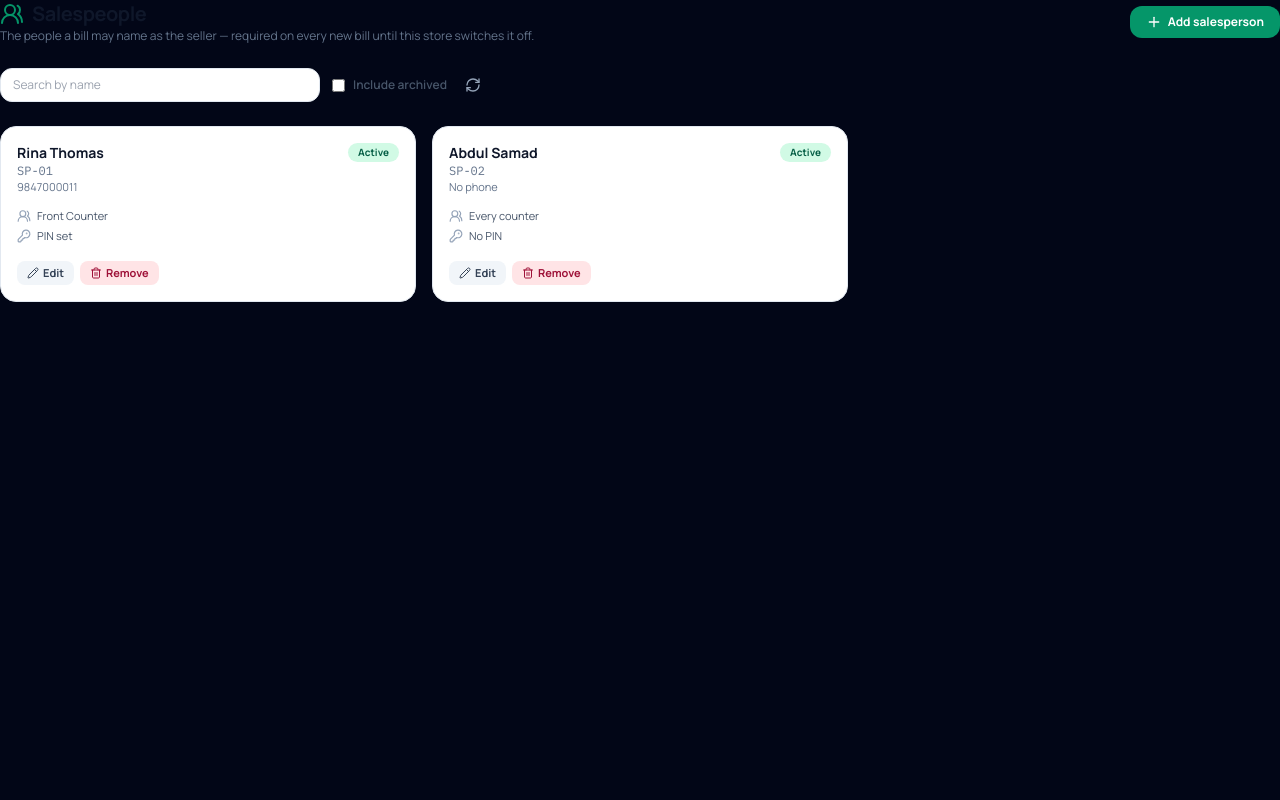
Test: salespeople master › restricts a person to the counters ticked in the dialog
The width and height of the screenshot is (1280, 800).
Check: the text "Rina Thomas" is shown, box x1=17 y1=143 x2=104 y2=163
Click the button "Add salesperson".
click(1205, 22)  # box x1=1130 y1=6 x2=1279 y2=38
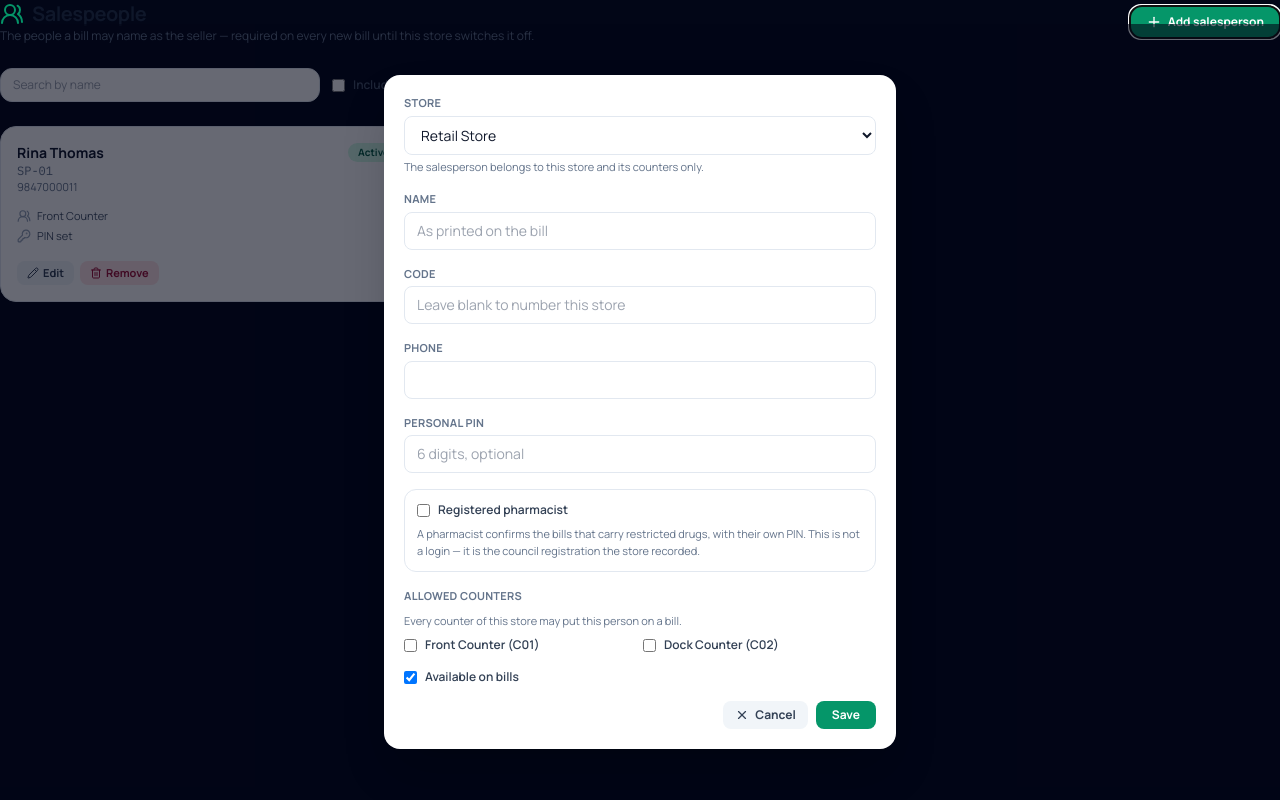
Type "Salan K" into the field labelled "Name".
click(640, 230); type("Salan K")  # box x1=404 y1=212 x2=876 y2=250
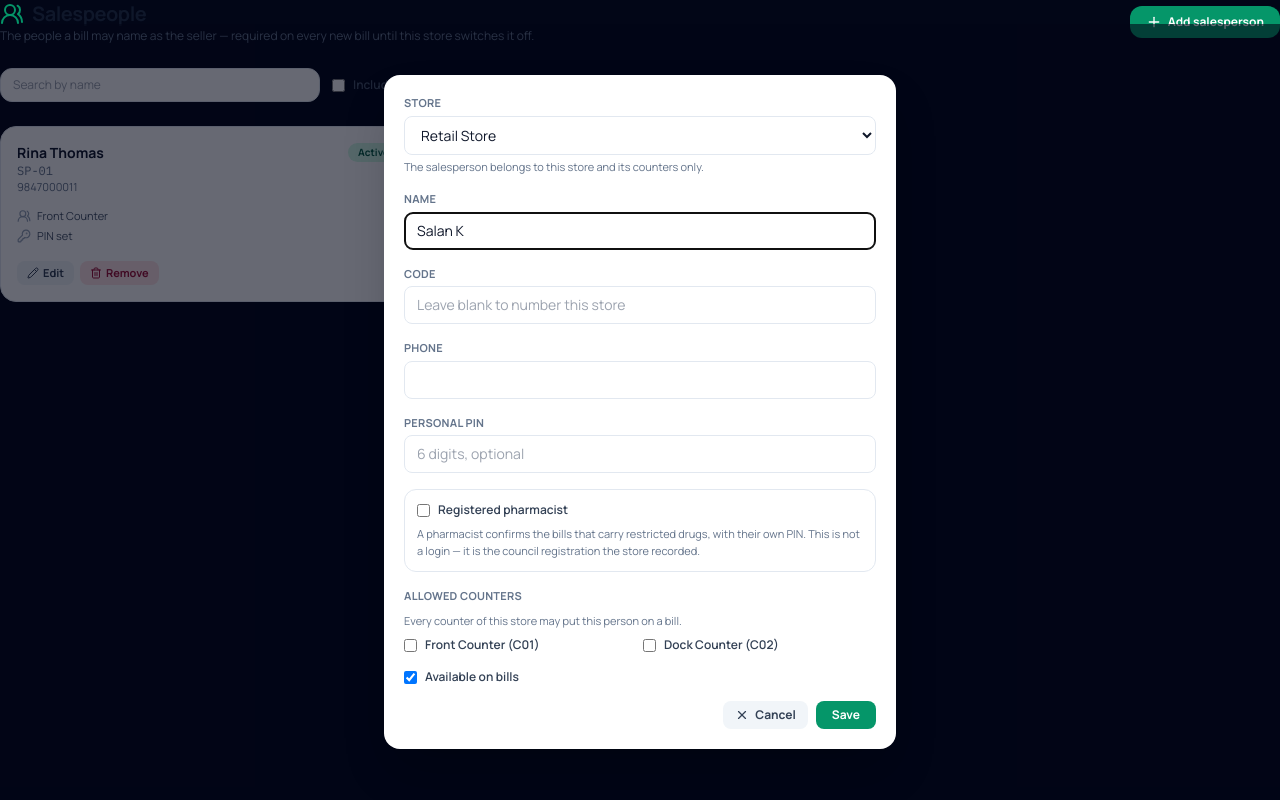
Check: the text "Every counter of this store may put this person on a bill." is shown, box x1=404 y1=612 x2=682 y2=628
Click the checkbox labelled "Dock Counter (C02)".
click(650, 645)  # box x1=643 y1=638 x2=656 y2=652
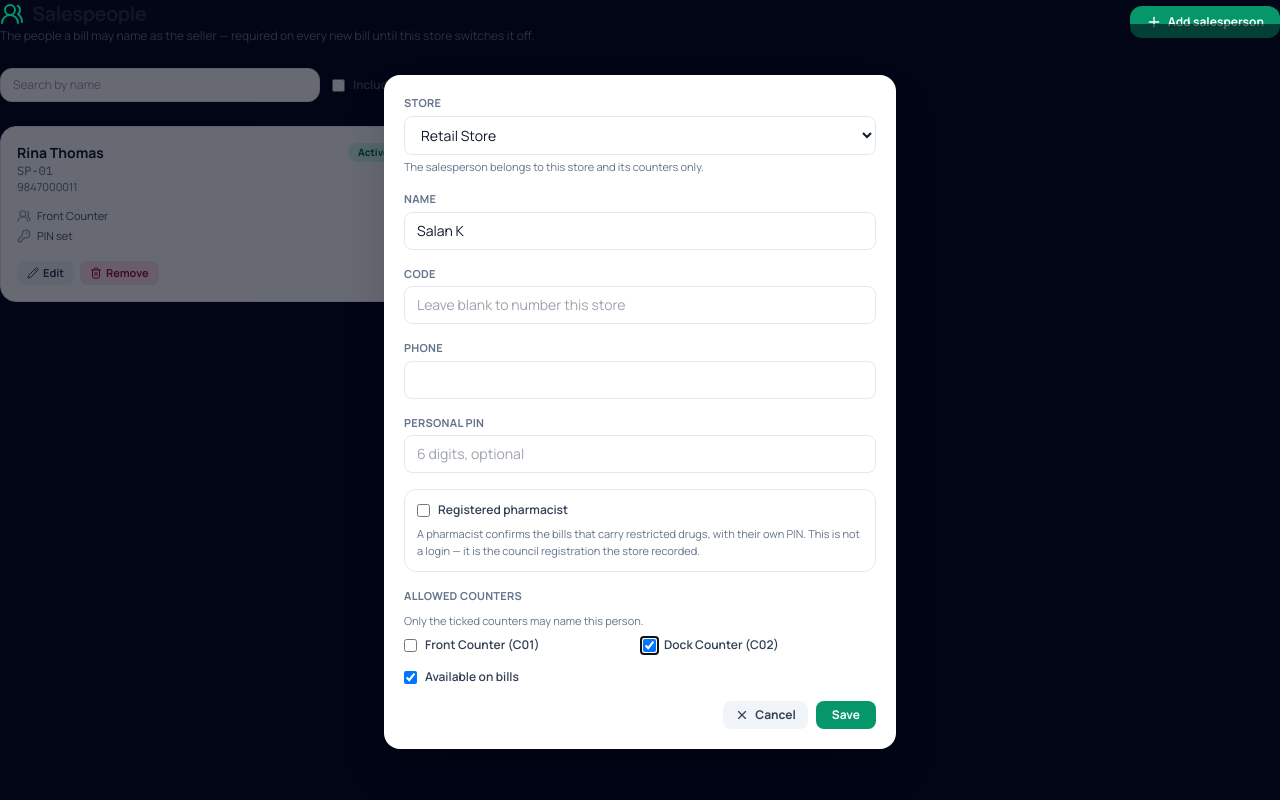
Click the button "Save".
click(846, 715)  # box x1=816 y1=701 x2=876 y2=729
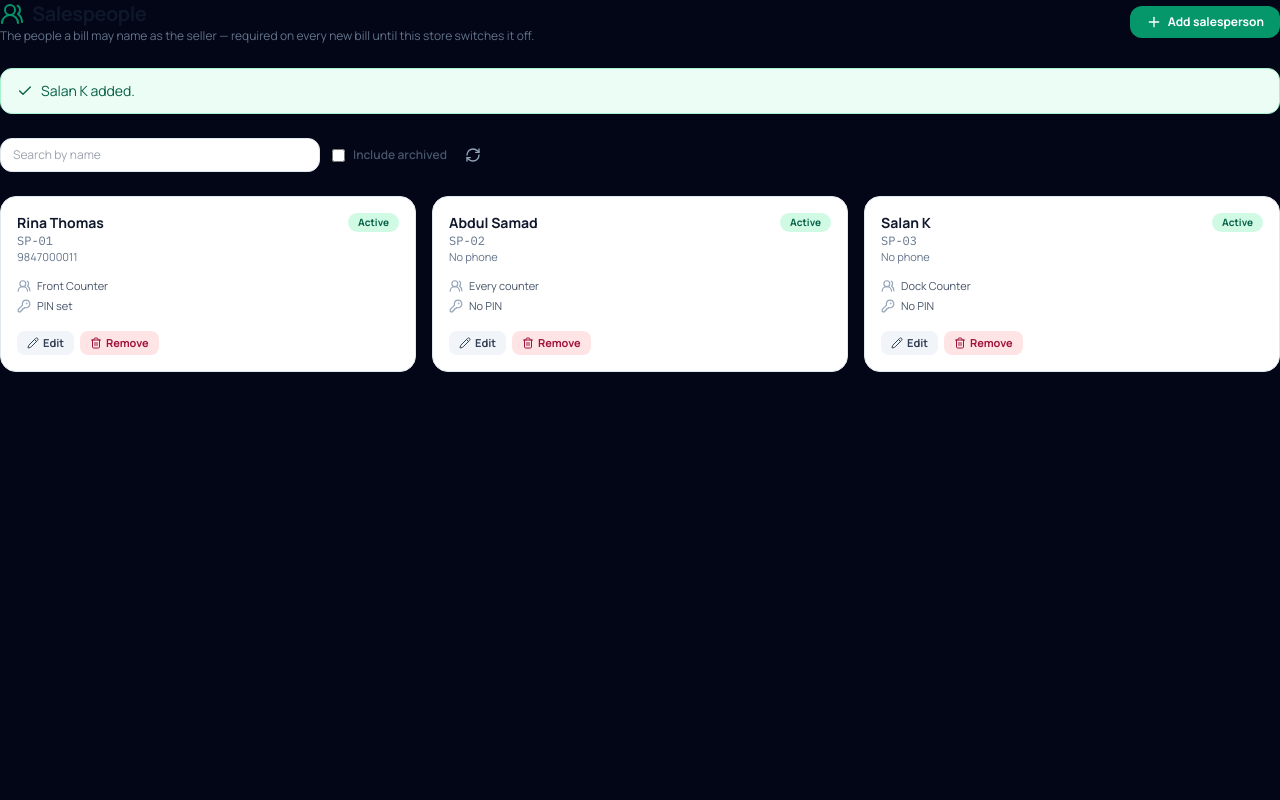
Check: the text "Salan K" is shown, box x1=881 y1=213 x2=931 y2=233
